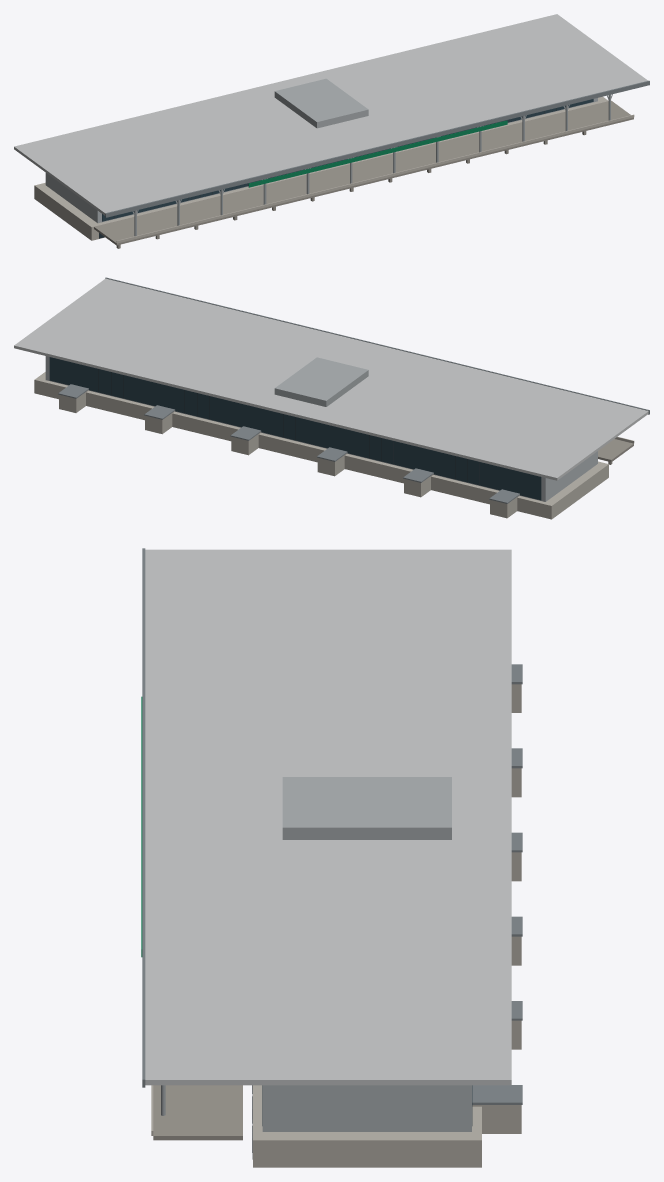
The model's file is ns_terminal.glb.
3 views of the same model, one above another, from view 1: azimuth 30°, elevation 25°; view 2: azimuth 150°, elevation 25°; view 3: azimuth 270°, elevation 25° (orthographic). The views are drawn at different scales.
Visible parts, largest first — view 1: ns_terminal; view 2: ns_terminal; view 3: ns_terminal.
Boxes of the visible parts, x1,y1,x2,y2 form: ns_terminal: (14, 14, 649, 248); ns_terminal: (14, 277, 649, 519); ns_terminal: (141, 548, 522, 1167).
Bounding box in the file's own units: 252 × 25 × 76.6.
